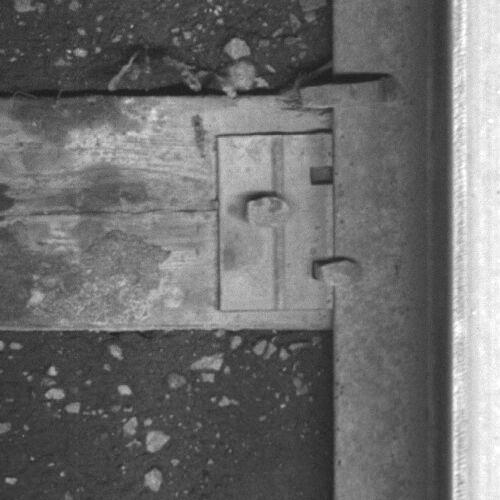crutch: (300, 73, 400, 108)
do: (216, 132, 362, 310)
hole_do: (303, 159, 340, 192)
rail: (450, 1, 500, 500)
tie_wood: (1, 94, 335, 329)
